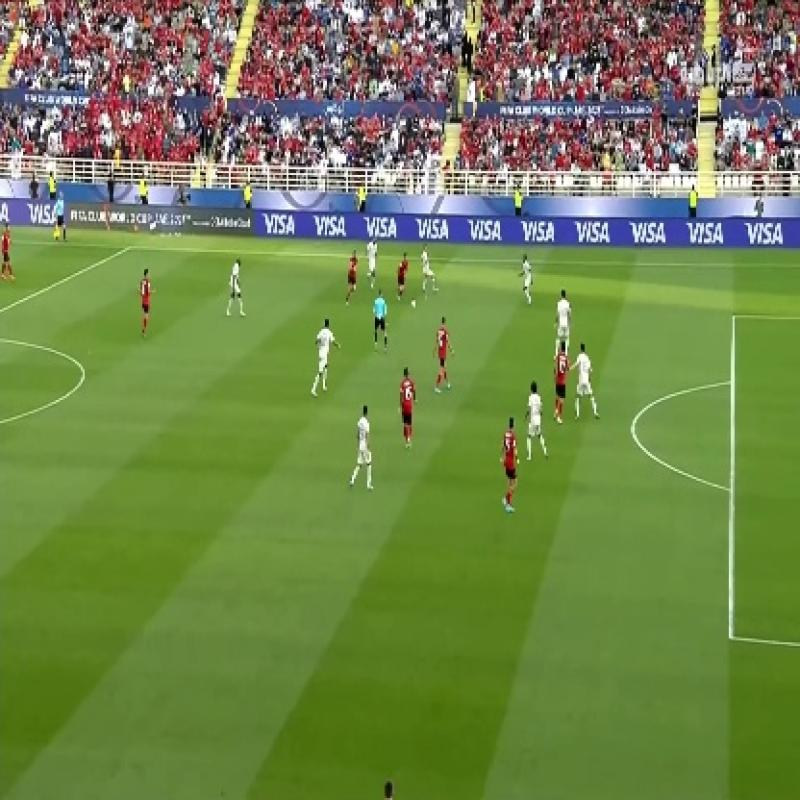10: (723, 372, 737, 390)
11: (721, 475, 742, 505)
12: (718, 624, 746, 650)
13: (123, 236, 135, 252)
9: (724, 308, 739, 326)
c: (61, 381, 83, 404)
